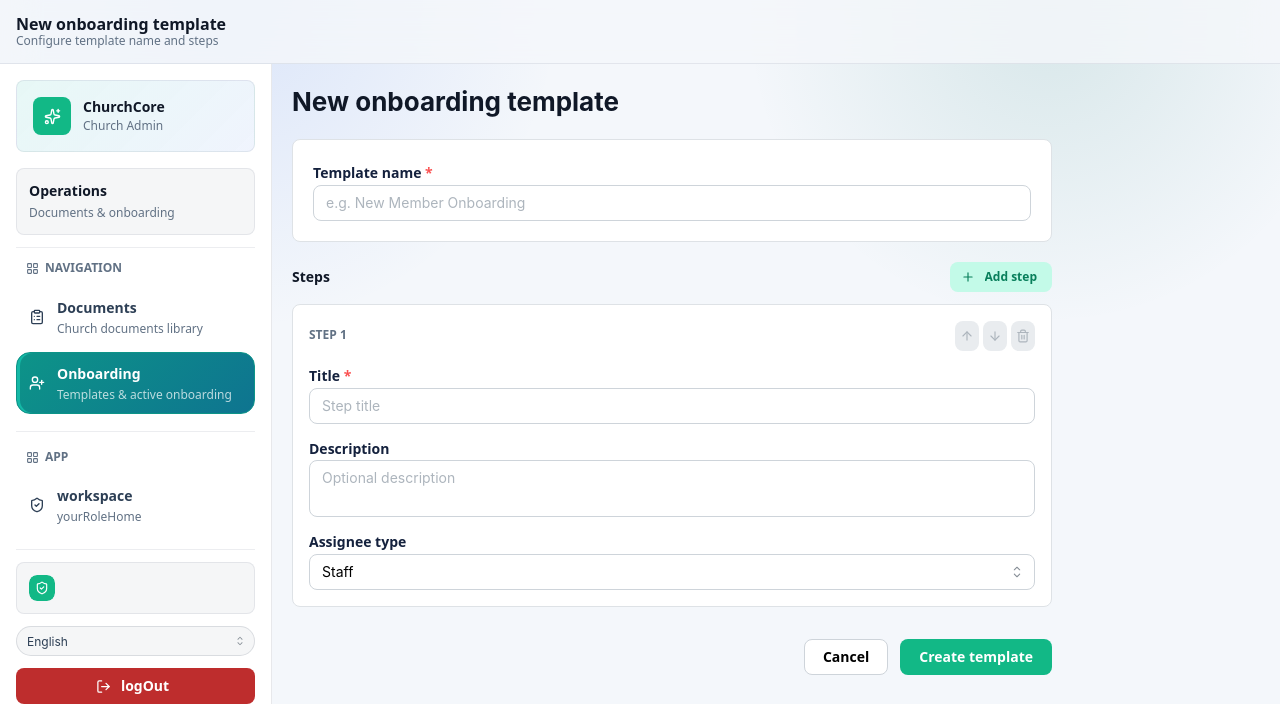
Scenario: OperationsOnboardingTemplateFormClient — create mode › adds multiple steps sequentially (AC14)
Click the button "Add step" at [1001, 277], box [950,262,1052,292]
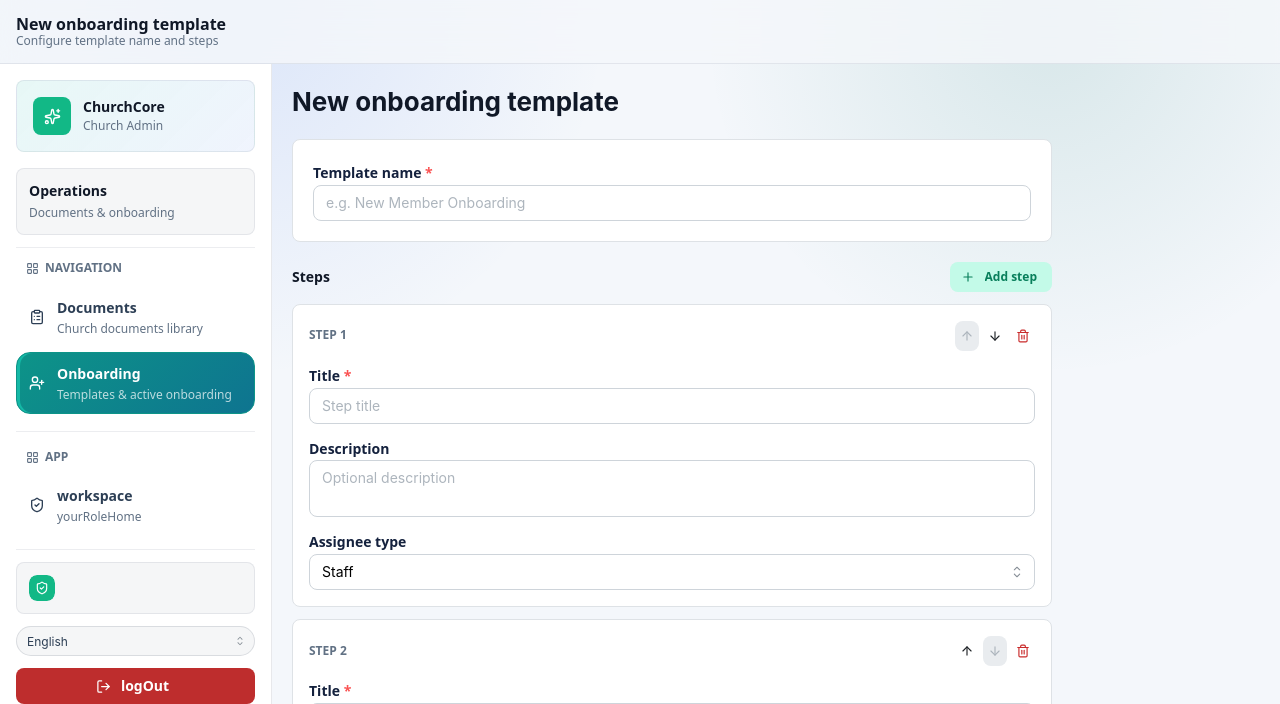
Click the button "Add step" at [1001, 277], box [950,262,1052,292]
(page scrolled)
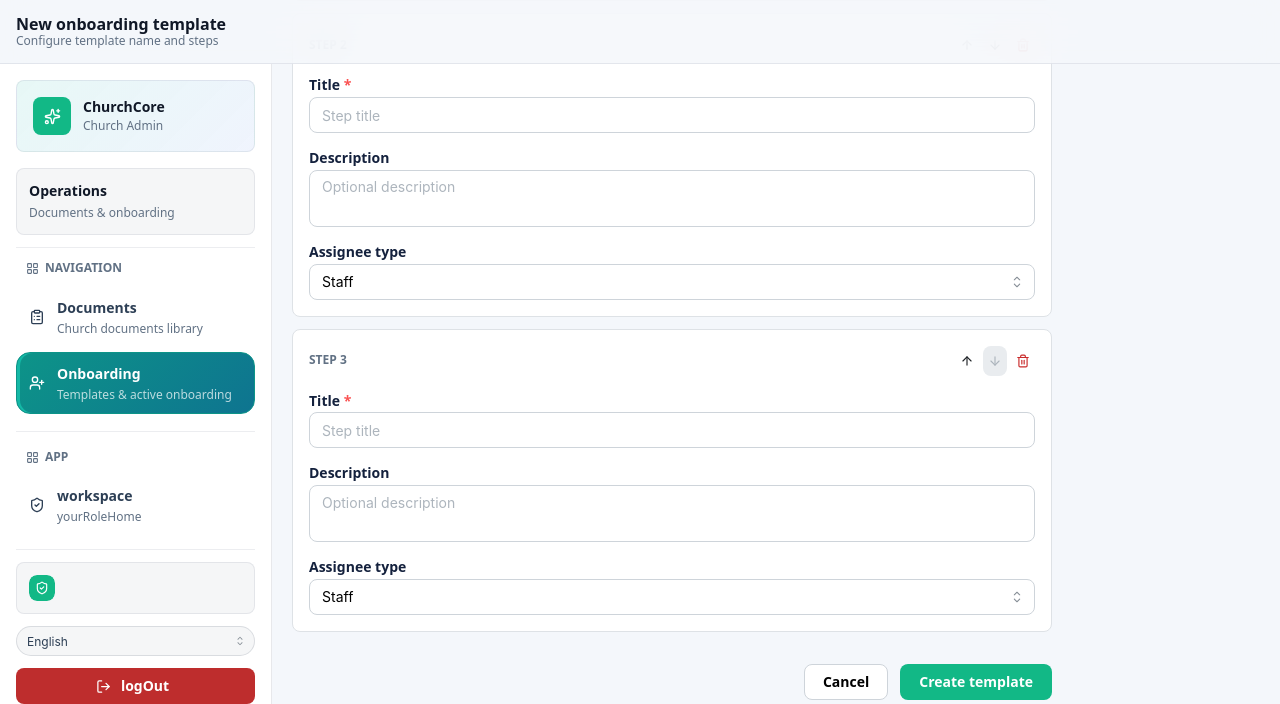
Result: the text "Step 3" is shown at [309,352,347,369]
